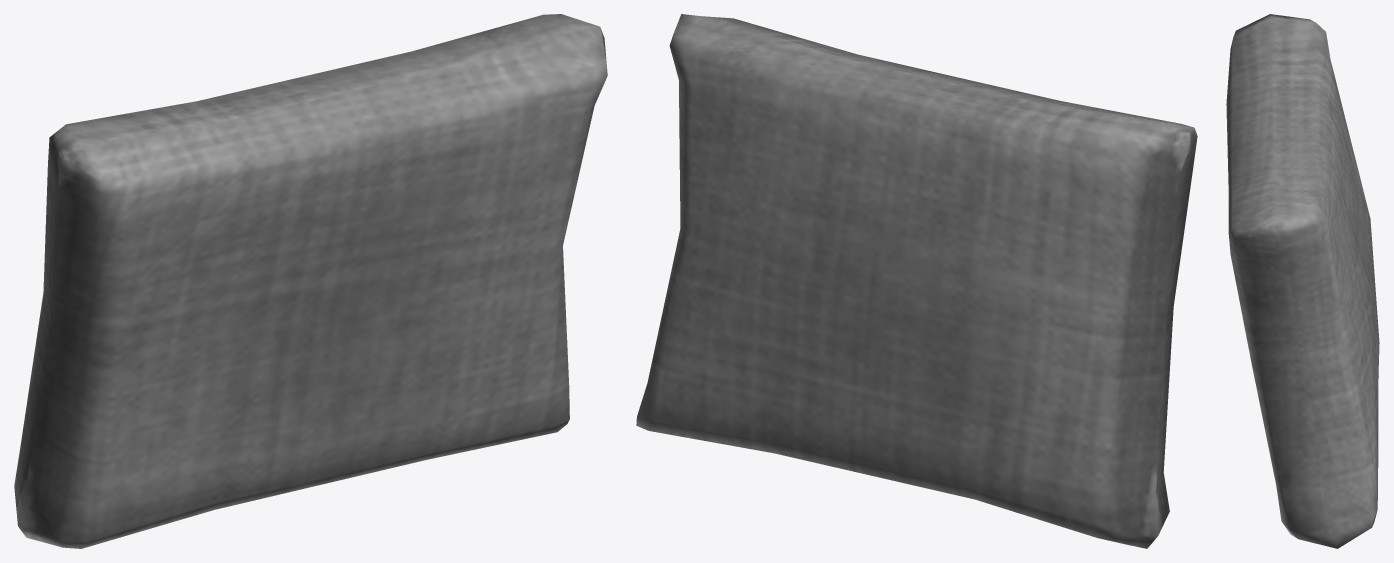
File: Cushion 3.FBX
3 views of the same model, side by side, from view 1: azimuth 30°, elevation 25°; view 2: azimuth 150°, elevation 25°; view 3: azimuth 270°, elevation 25° (orthographic). The views are drawn at different scales.
Parts seen in each view (by area): view 1: Cushion03; view 2: Cushion03; view 3: Cushion03.
Boxes of the visible parts, x1,y1,x2,y2 form: Cushion03: (14, 14, 607, 548); Cushion03: (636, 14, 1197, 548); Cushion03: (1226, 14, 1379, 548).
Bounding box in the file's own units: 79.82 × 58.12 × 24.27.
